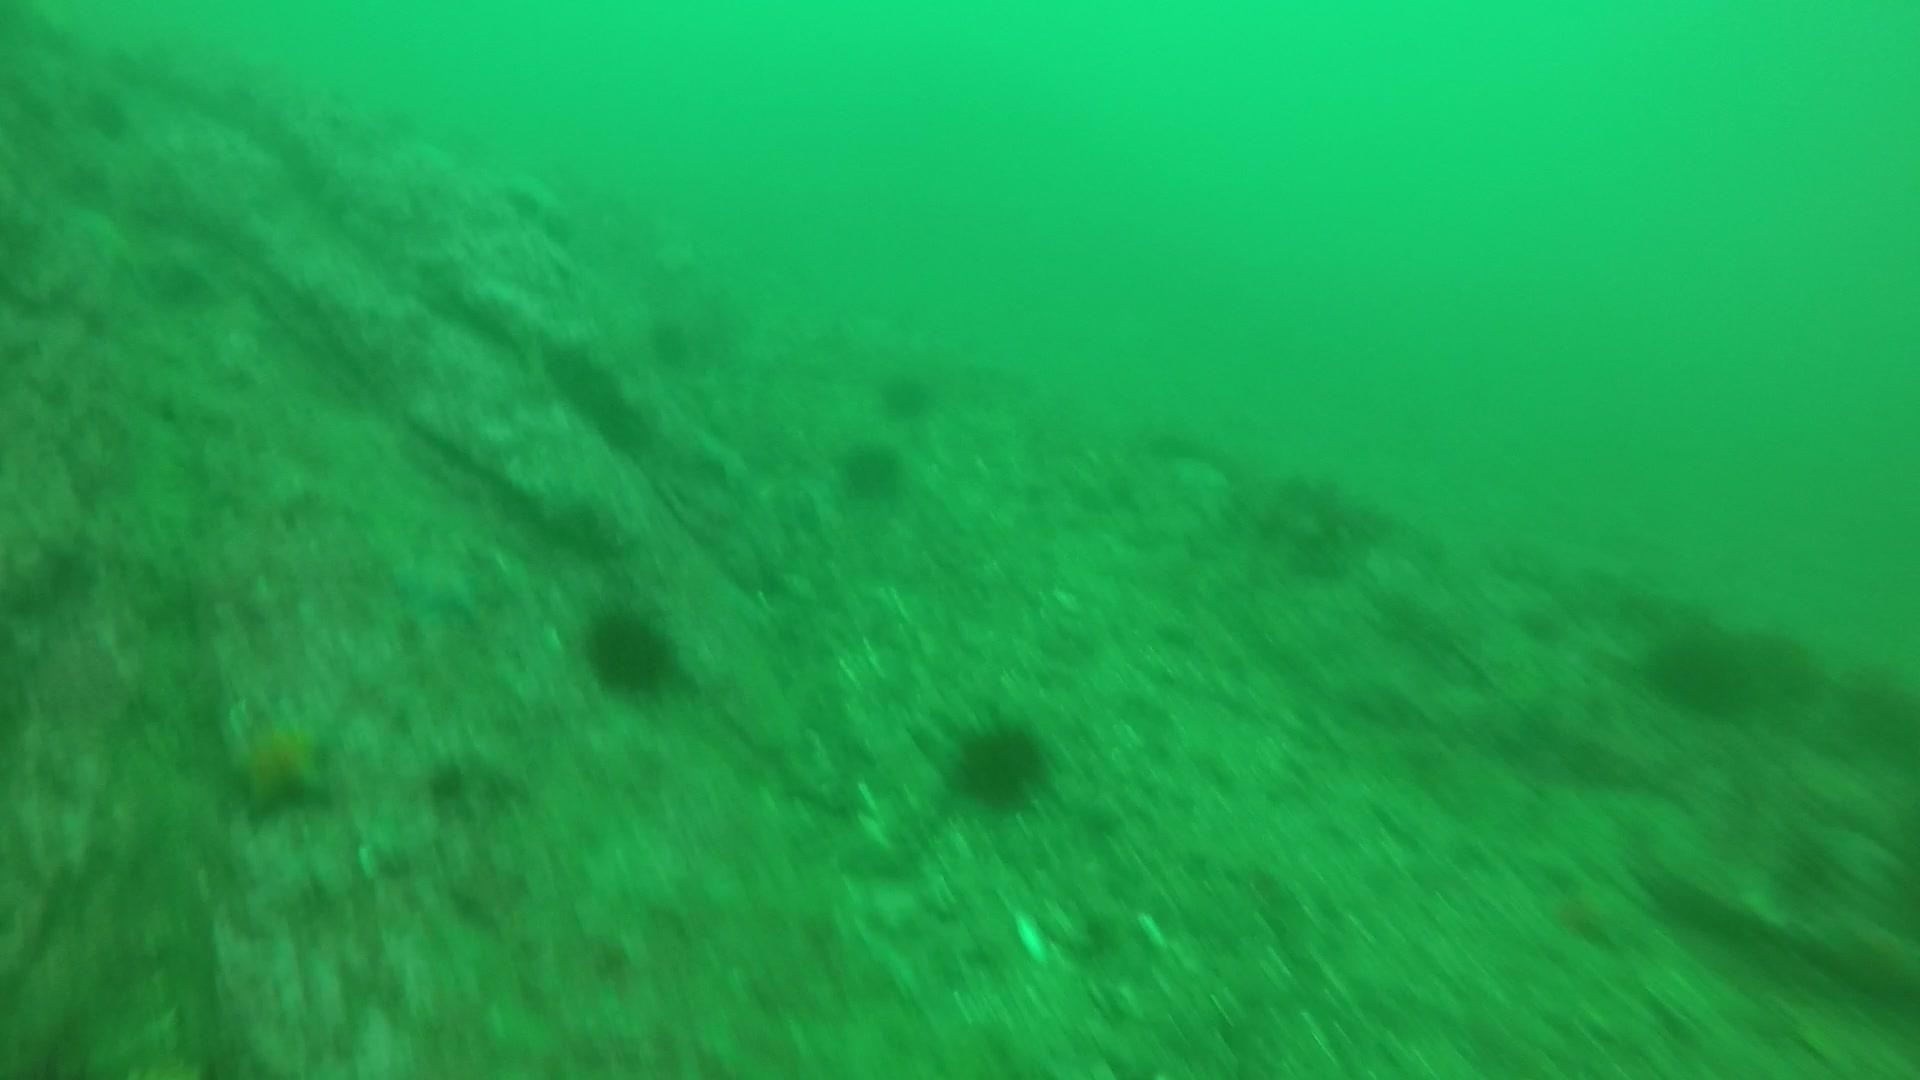echinus: (942, 711, 1056, 815), (1640, 621, 1758, 719), (576, 597, 684, 702), (833, 436, 910, 505), (873, 363, 939, 423), (50, 153, 116, 214), (71, 84, 137, 145)
starfish: (214, 688, 344, 824), (384, 535, 492, 632)
